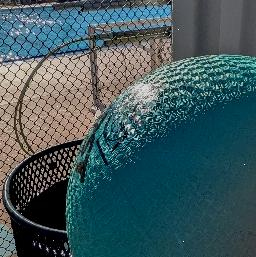algae: (66, 57, 256, 257)
